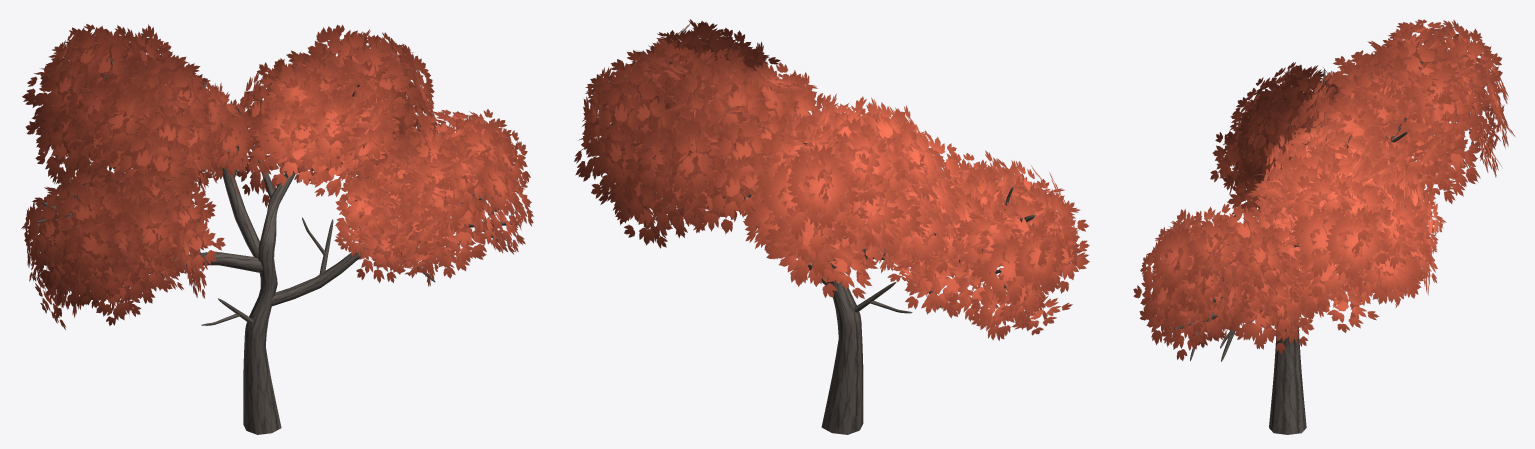
Rendered from MapleTree_3.glb.
3 renders of one model, left to right at view 1: azimuth 30°, elevation 25°; view 2: azimuth 150°, elevation 25°; view 3: azimuth 270°, elevation 25°, orthographic. The views are drawn at different scales.
Parts seen in each view (by area): view 1: MapleTree_3; view 2: MapleTree_3; view 3: MapleTree_3.
Part boxes in pixels (x1=…): MapleTree_3: x1=21, y1=24, x2=533, y2=434; MapleTree_3: x1=574, y1=19, x2=1089, y2=434; MapleTree_3: x1=1133, y1=19, x2=1514, y2=434.
Size of the model in its own units: 8.98 by 6.99 by 6.61.
2 materials, 2 textured.
